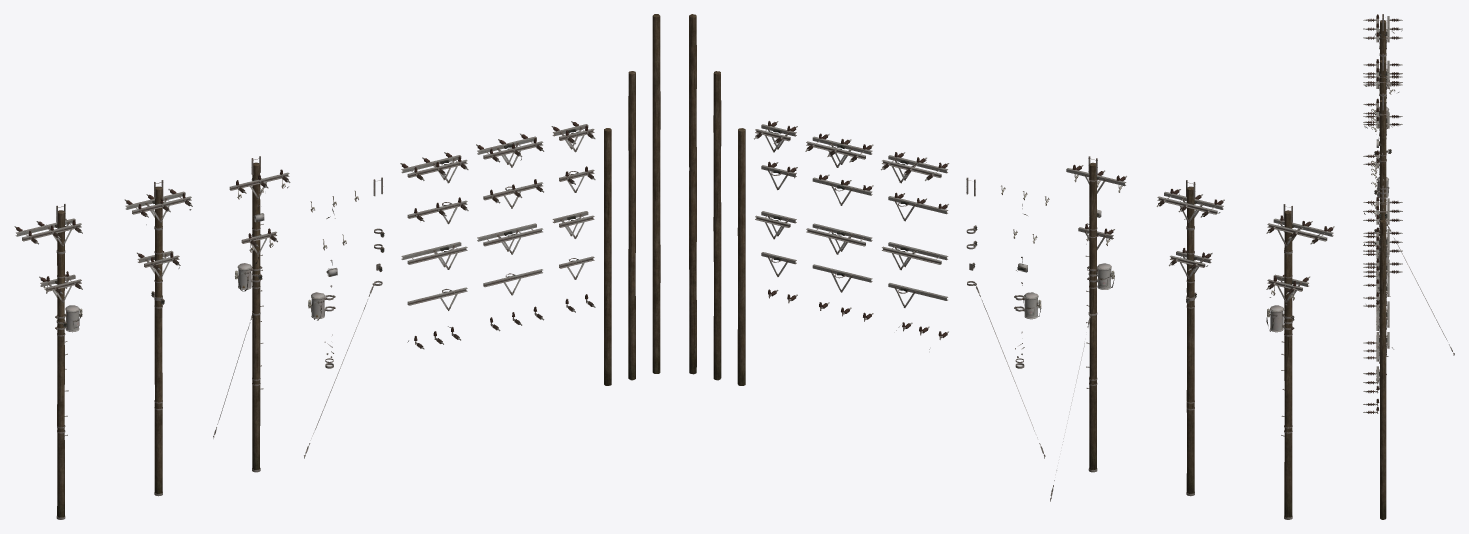
Rendered from modular-electricity-poles.glb.
3 renders of one model, left to right at view 1: azimuth 30°, elevation 25°; view 2: azimuth 150°, elevation 25°; view 3: azimuth 270°, elevation 25°, orthographic. The views are drawn at different scales.
Visible parts, largest first — view 1: pole, bolt_large; view 2: pole, bolt_large; view 3: bolt_large, pole.
Boxes of the visible parts, <box> form: pole: <box>57,14,660,517</box>; bolt_large: <box>14,121,595,458</box>; pole: <box>689,14,1292,517</box>; bolt_large: <box>754,121,1334,501</box>; bolt_large: <box>1363,14,1454,413</box>; pole: <box>1380,20,1386,519</box>.
Bounding box in the file's own units: 13.12 × 7 × 1.95.
2 materials, 2 textured.
